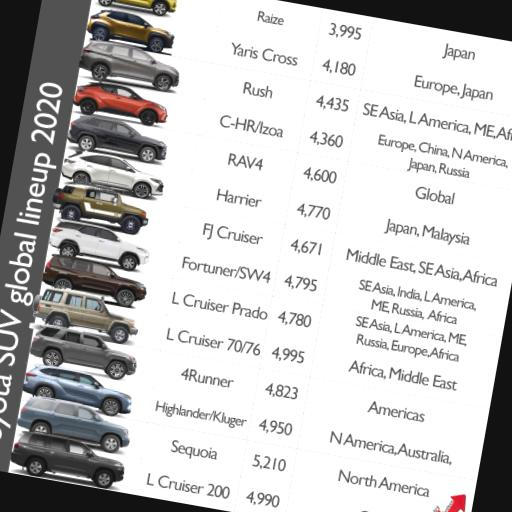Sedan-sDLz: (22, 359, 136, 419), (64, 108, 172, 165), (60, 148, 169, 202), (72, 76, 173, 129), (84, 3, 178, 55), (91, 0, 184, 18)
suv: (8, 424, 130, 492), (28, 322, 142, 385), (29, 284, 144, 346), (40, 253, 152, 309), (48, 180, 154, 239)
van: (16, 396, 134, 455), (46, 218, 157, 274), (75, 38, 186, 92)
